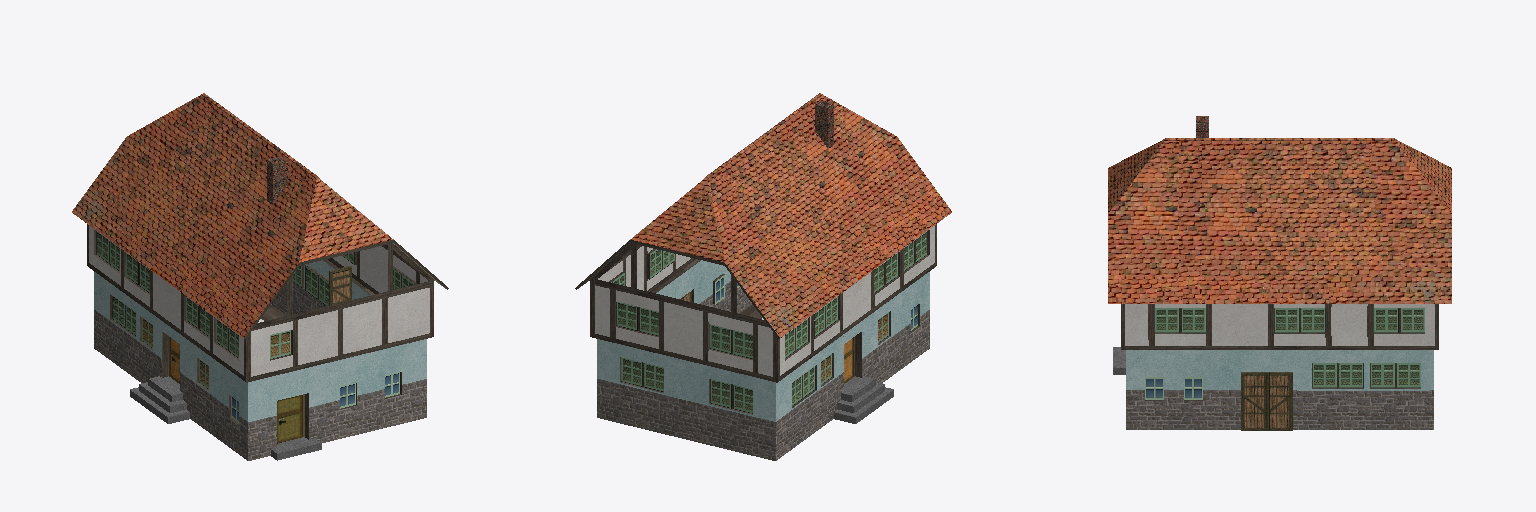
3 views of the same model, side by side, from view 1: azimuth 30°, elevation 25°; view 2: azimuth 150°, elevation 25°; view 3: azimuth 270°, elevation 25° (orthographic).
Parts seen in each view (by area): view 1: Foo; view 2: Foo; view 3: Foo.
Part boxes in pixels (left/top/right/bottom): Foo: left=72, top=93, right=448, bottom=460; Foo: left=575, top=93, right=951, bottom=460; Foo: left=1108, top=116, right=1451, bottom=430.
Bounding box in the file's own units: 9.61 × 11 × 13.4.
1 materials, 1 textured.